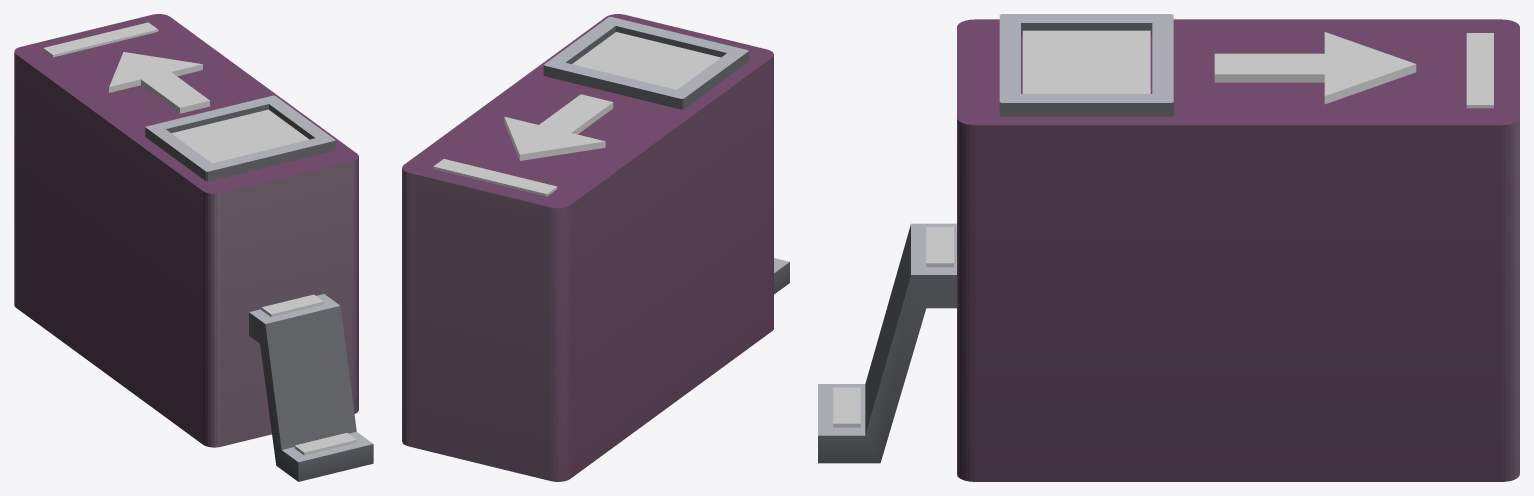
File: pin_coupling.glb
The picture shows the model from 3 angles, left to right: view 1: azimuth 30°, elevation 25°; view 2: azimuth 150°, elevation 25°; view 3: azimuth 270°, elevation 25°; orthographic projection. The views are drawn at different scales.
Visible parts, largest first — view 1: Korpus, Licht, Abbild, Seltenheit; view 2: Korpus, Licht, Abbild; view 3: Korpus, Licht, Abbild, Seltenheit.
Boxes of the visible parts, <box> form: Korpus: <box>14,14,373,481</box>; Licht: <box>43,22,356,455</box>; Abbild: <box>171,109,308,163</box>; Seltenheit: <box>261,294,323,317</box>; Korpus: <box>402,14,789,481</box>; Licht: <box>433,94,613,196</box>; Abbild: <box>572,32,720,89</box>; Korpus: <box>818,14,1519,481</box>; Licht: <box>833,32,1493,427</box>; Abbild: <box>1022,30,1150,93</box>; Seltenheit: <box>926,227,953,267</box>.
Bounding box in the file's own units: 0.82 × 1.37 × 2.3.
